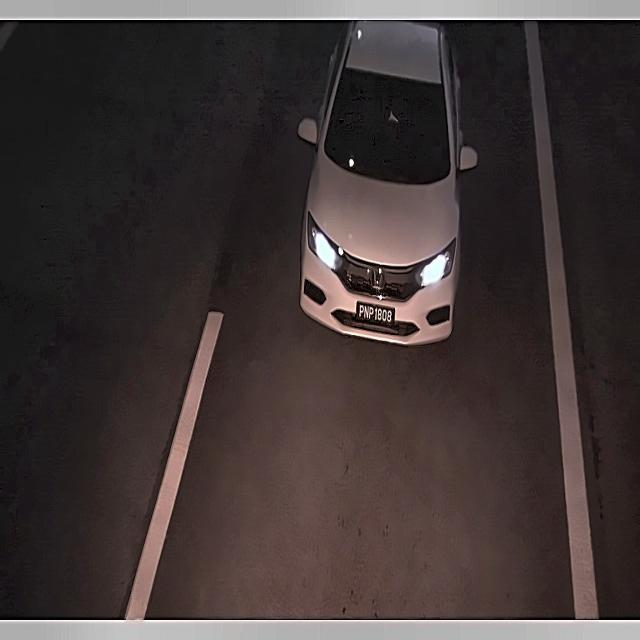car: (351, 290, 400, 332)
